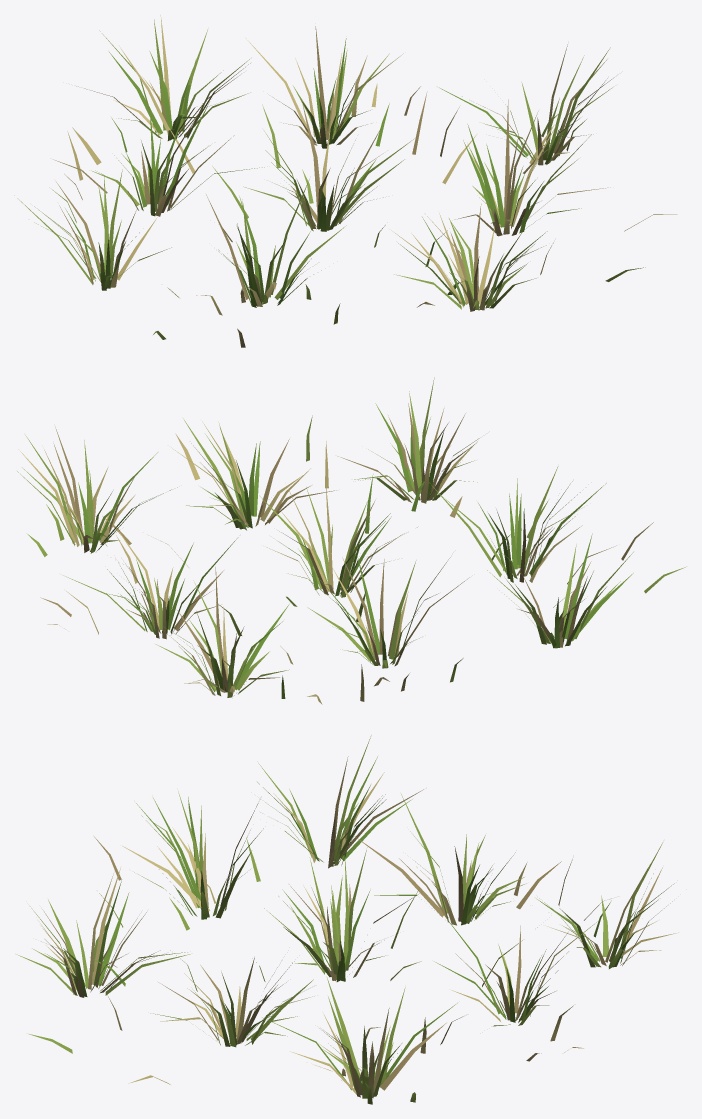
The picture shows the model from 3 angles, top to bottom: view 1: azimuth 30°, elevation 25°; view 2: azimuth 150°, elevation 25°; view 3: azimuth 270°, elevation 25°; orthographic projection. The views are drawn at different scales.
Parts seen in each view (by area): view 1: foliage; view 2: foliage; view 3: foliage.
Boxes of the visible parts, x1,y1,x2,y2 form: foliage: (14, 15, 677, 347); foliage: (17, 377, 686, 704); foliage: (16, 735, 678, 1104).
Bounding box in the file's own units: 2.7 × 0.4486 × 2.55.
Materials: 1 (1 with a texture image).
